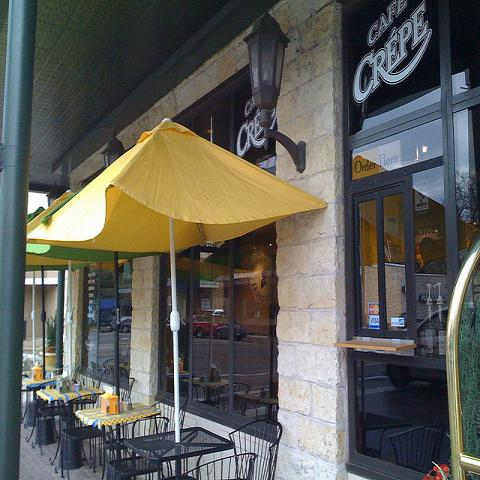car: (193, 315, 226, 340), (120, 316, 132, 332)
